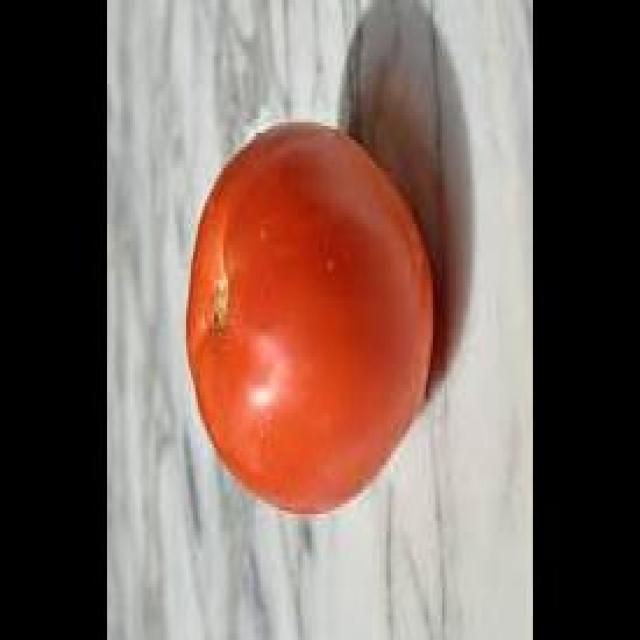Tomato: (186, 118, 440, 515)
